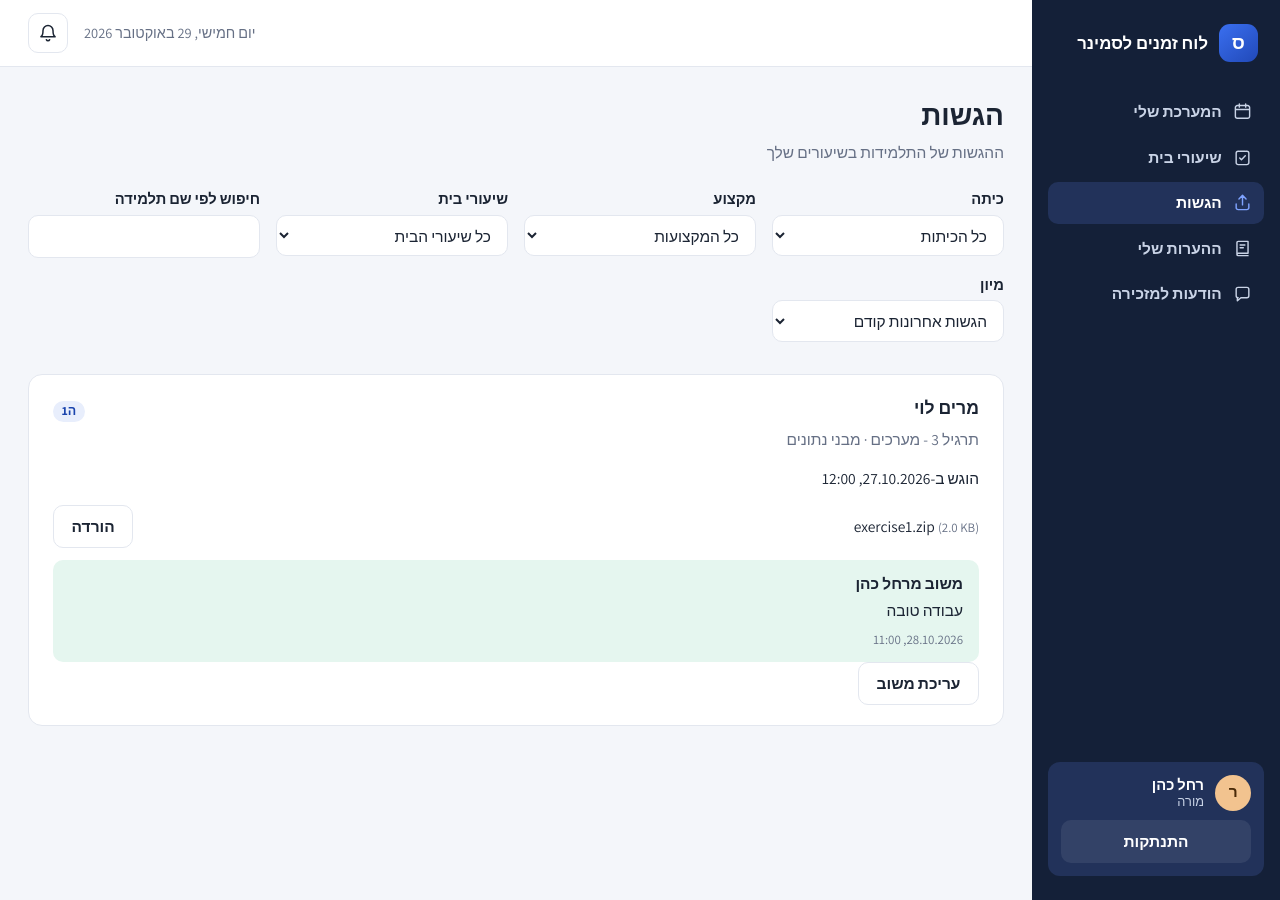
Test: הגשות (מורה) › משוב › משוב קיים מוצג, ואפשר לערוך אותו
The image size is (1280, 900).
Expected: the text "עבודה טובה" is shown, x1=886 y1=600 x2=963 y2=620
Click the button "עריכת משוב": [918, 683] box x1=858 y1=662 x2=979 y2=705
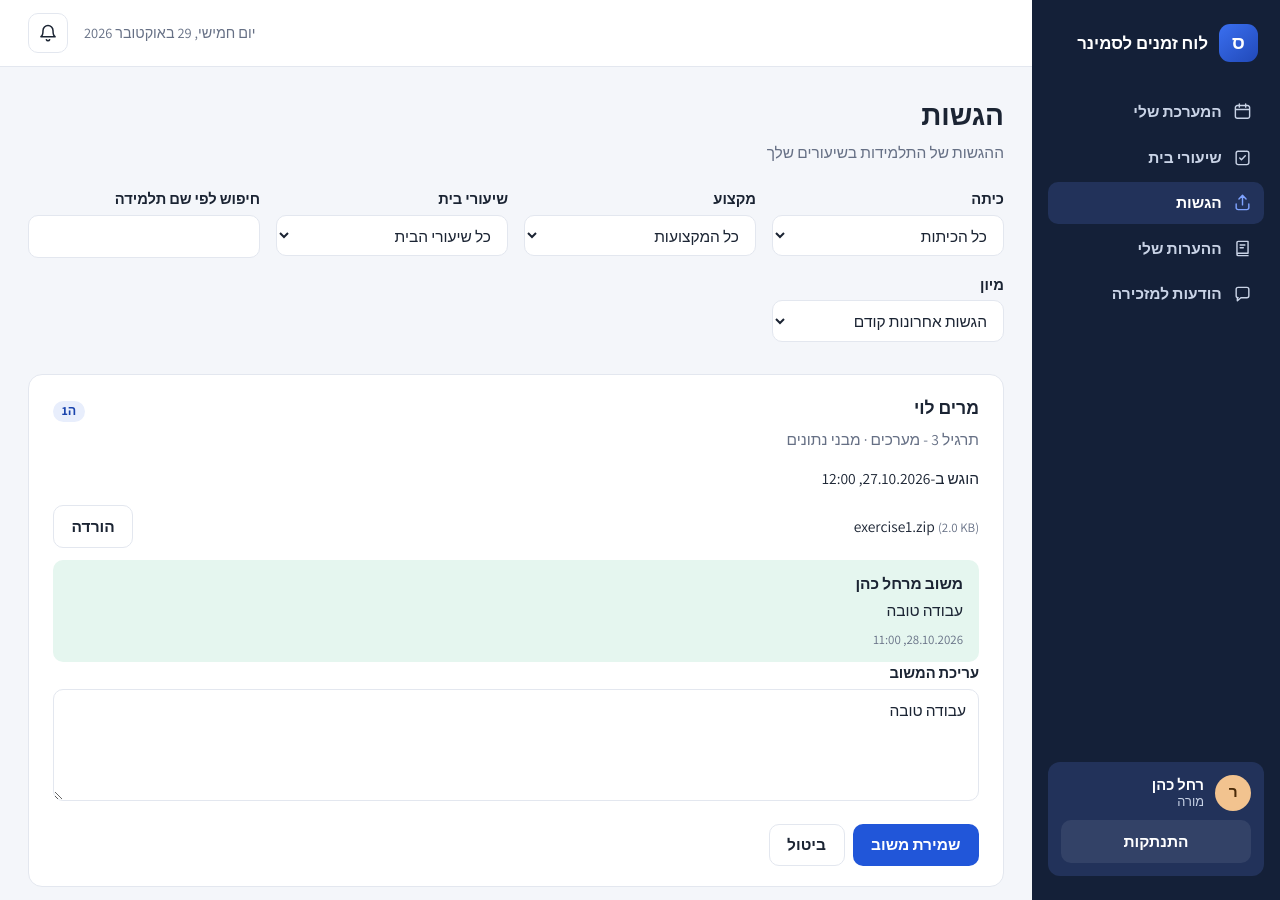
Result: the text box labelled "עריכת המשוב" holds "עבודה טובה"
Replace the text in the text box labelled "עריכת המשוב" with "עבודה טובה מאוד": [516, 745] box x1=53 y1=689 x2=979 y2=801
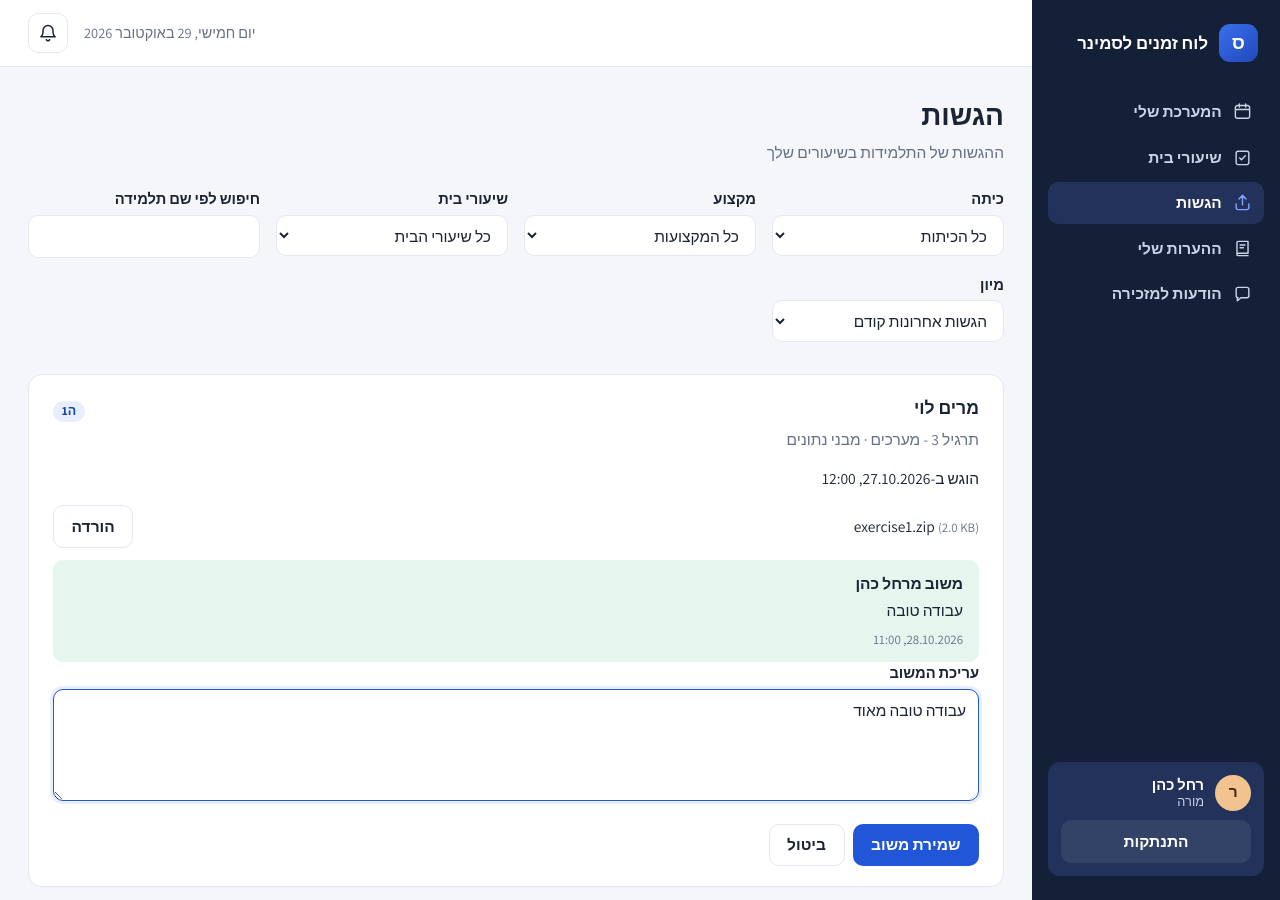
Click the button "שמירת משוב": [916, 845] box x1=852 y1=824 x2=979 y2=866
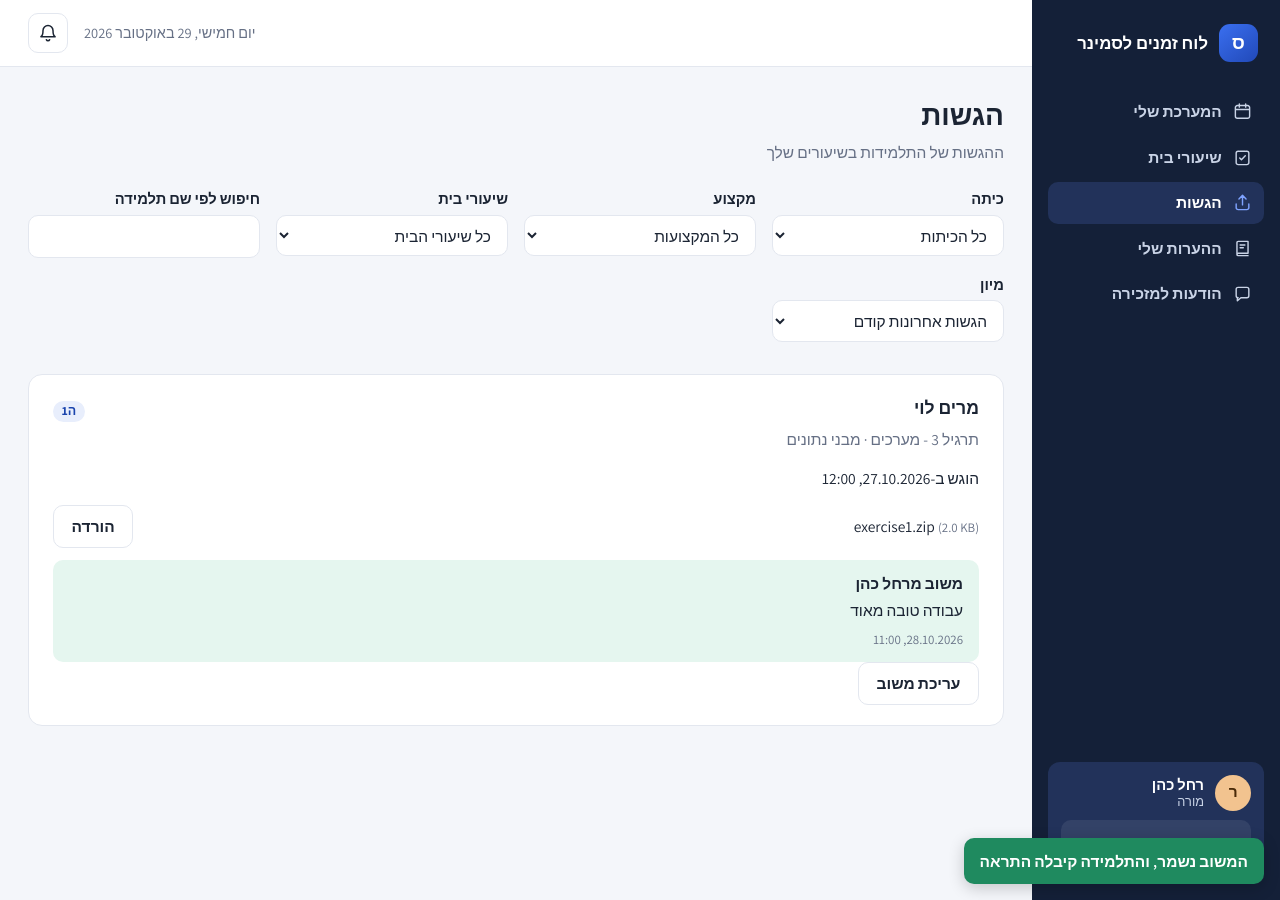
Result: the text "עבודה טובה מאוד" is shown at x1=850 y1=600 x2=963 y2=620
